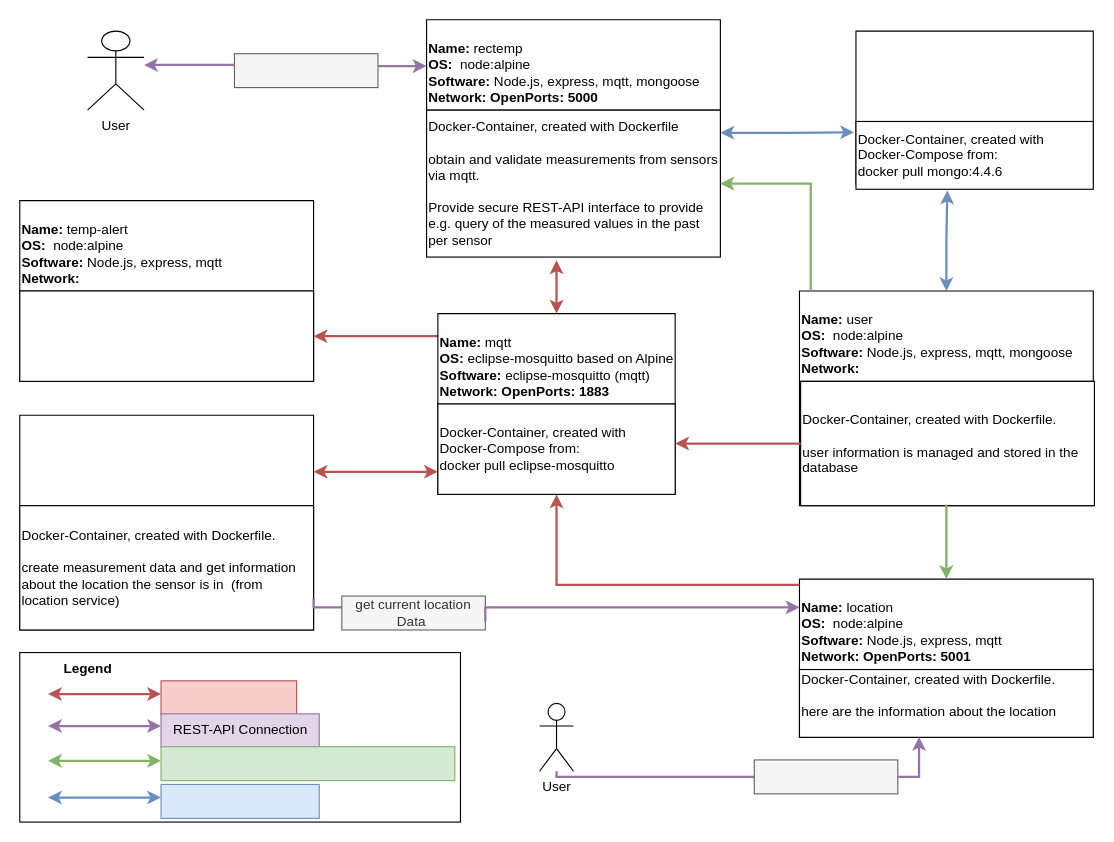
Some shapes in this 1114 by 842 pixel diagram are drawn without their labels. The box of each missing label's shape, as (x1, y1, x2, y2) in pixels:
change/create/delete location Data: (753, 759, 898, 794)
Datebase Connection: (160, 783, 319, 818)
Docker-Container, created with Dockerfile Prints Messages: (19, 290, 314, 381)
get measurements: (233, 53, 378, 88)
loginauthenification interfaces, (JWT-Token): (160, 746, 455, 781)
MQTT Connection: (160, 680, 297, 715)
Name: mongo OS: mongo:4.4.6 Software: mongoDB Network: OpenPorts: 27017: (855, 30, 1093, 184)
Name: sensor OS: node:alpine Software: Node.js, express, mqtt Network:: (19, 414, 314, 630)
